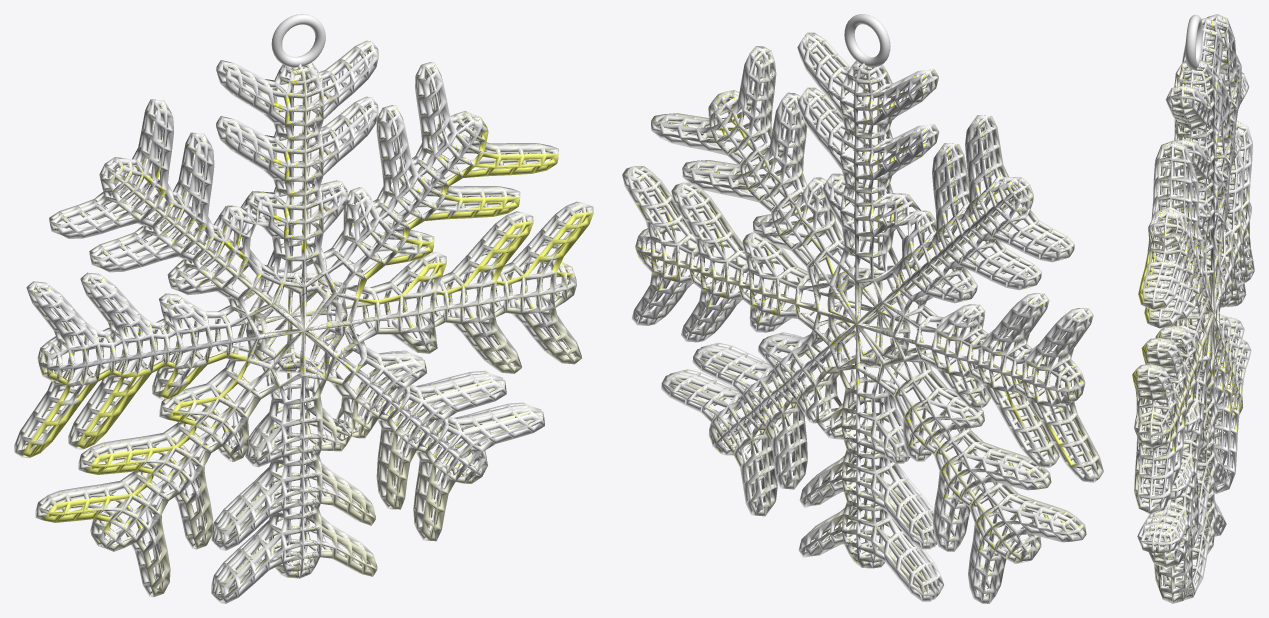
File: snow.glb
3 views of the same model, side by side, from view 1: azimuth 30°, elevation 25°; view 2: azimuth 150°, elevation 25°; view 3: azimuth 270°, elevation 25° (orthographic). The views are drawn at different scales.
Visible parts, largest first — view 1: Object_12.002; view 2: Object_12.002; view 3: Object_12.002.
Part boxes in pixels (x1,y1,x2,y2): Object_12.002: (14,14,593,603); Object_12.002: (622,14,1103,603); Object_12.002: (1132,14,1254,603).
Size of the model in its own units: 0.1555 by 0.1607 by 0.0323.
2 materials, 1 textured.
